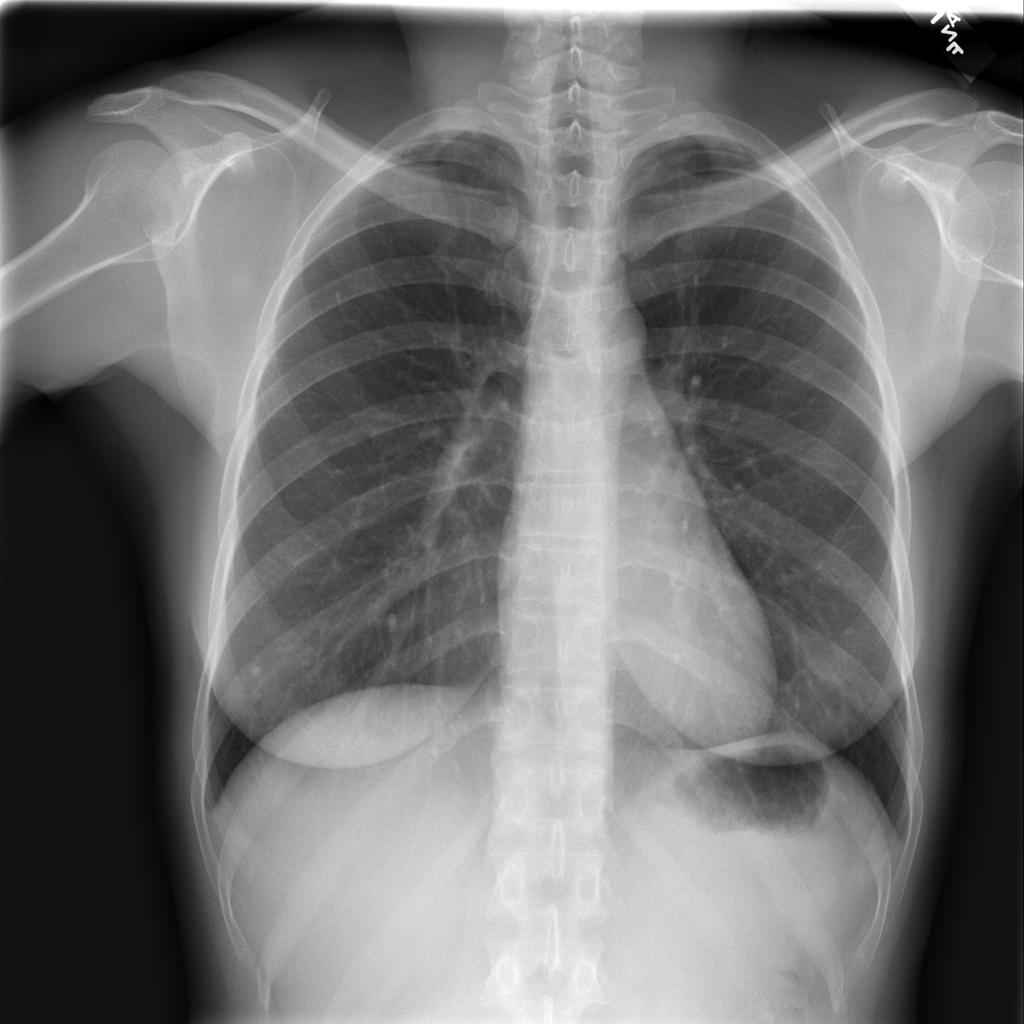nodule: (241, 652, 276, 689)
